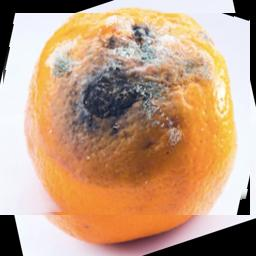Orange Rotten: (0, 13, 250, 215)
